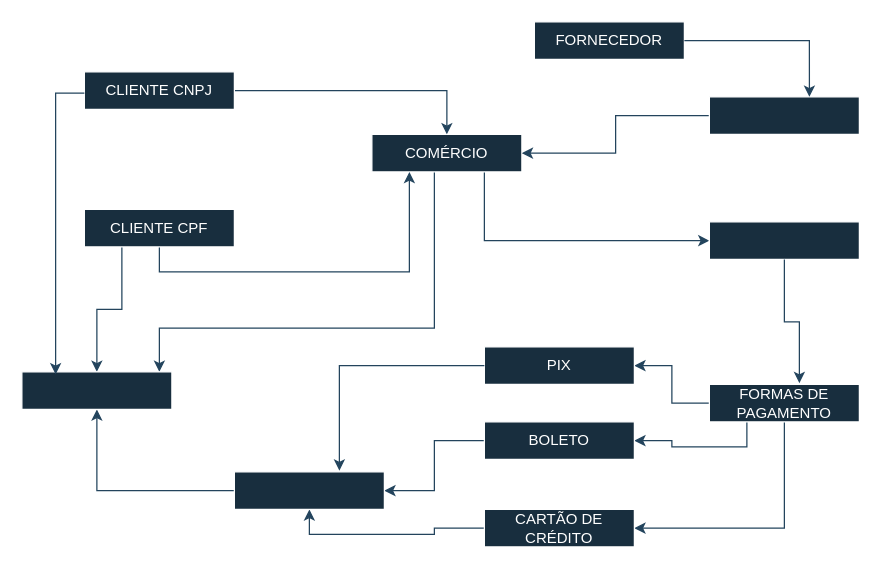
The diagram is 881 pixels wide and 569 high, and some of its shapes have lost their labels. Here are the shapes that lost their labels. From the top down, the box of each, then its label:
(708, 96, 859, 134): ESTOQUE DE PRODUTOS
(708, 221, 859, 259): PRODUTOS
(21, 371, 172, 409): RASTREIO DE PRODUTO
(233, 471, 384, 509): ENTREGA DE PRODUTO
